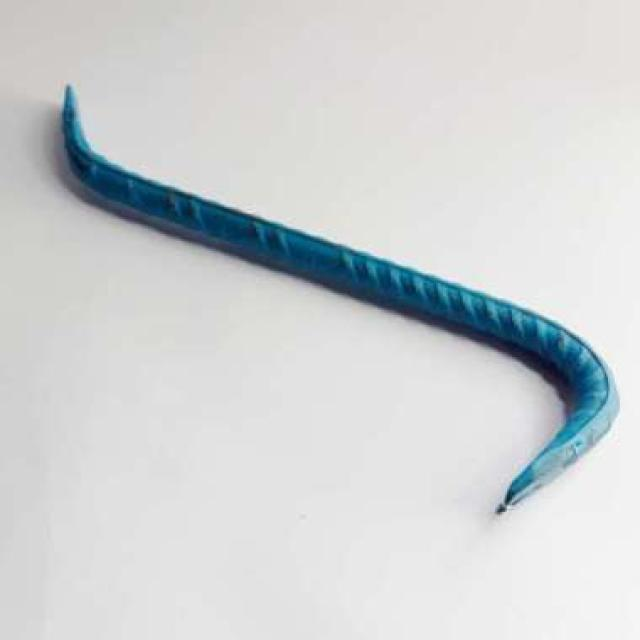Linggis: (44, 70, 624, 530)
